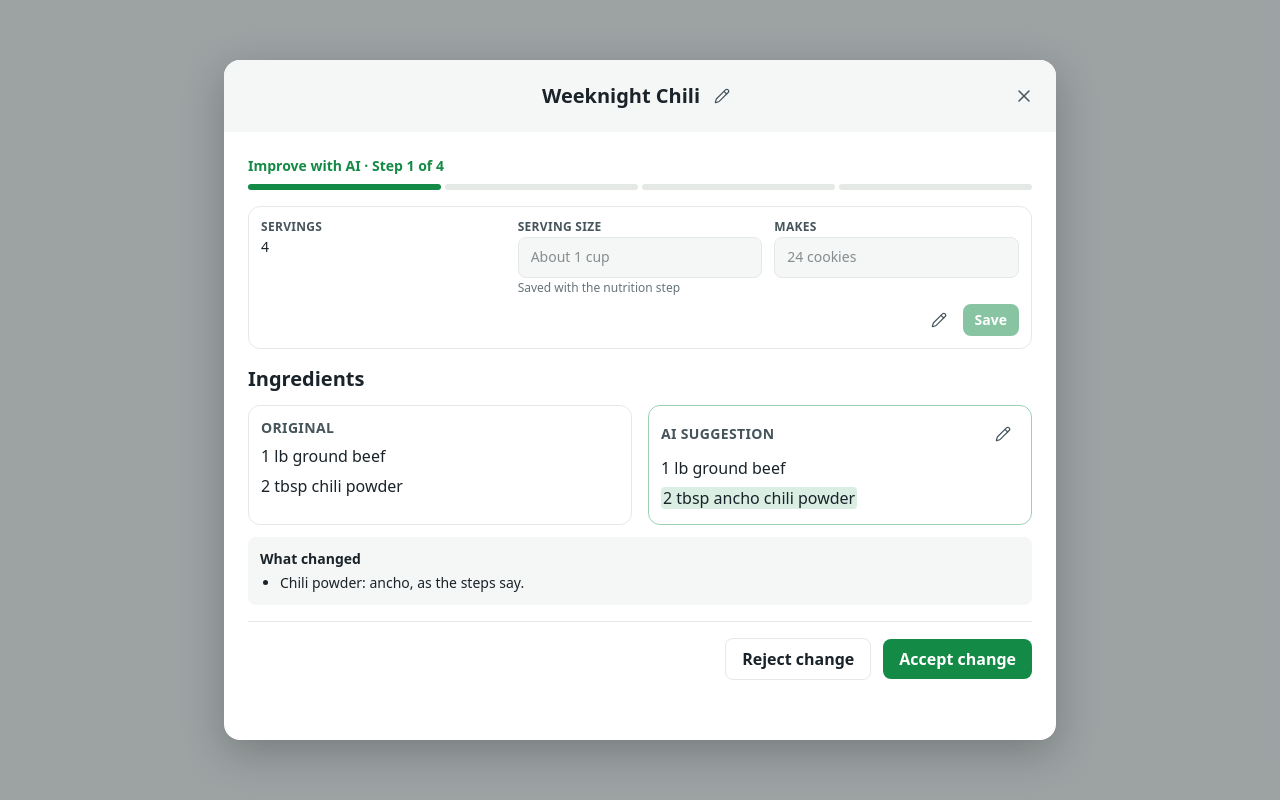
Test: Improve with AI, one part at a time › the recipe's name is in the header the whole way, with which step it's on
Expected: the text "Improve with AI · Step 1 of 4" is shown, [248, 156, 444, 176]
Click the button "Accept change" at (958, 659), box [883, 639, 1032, 679]
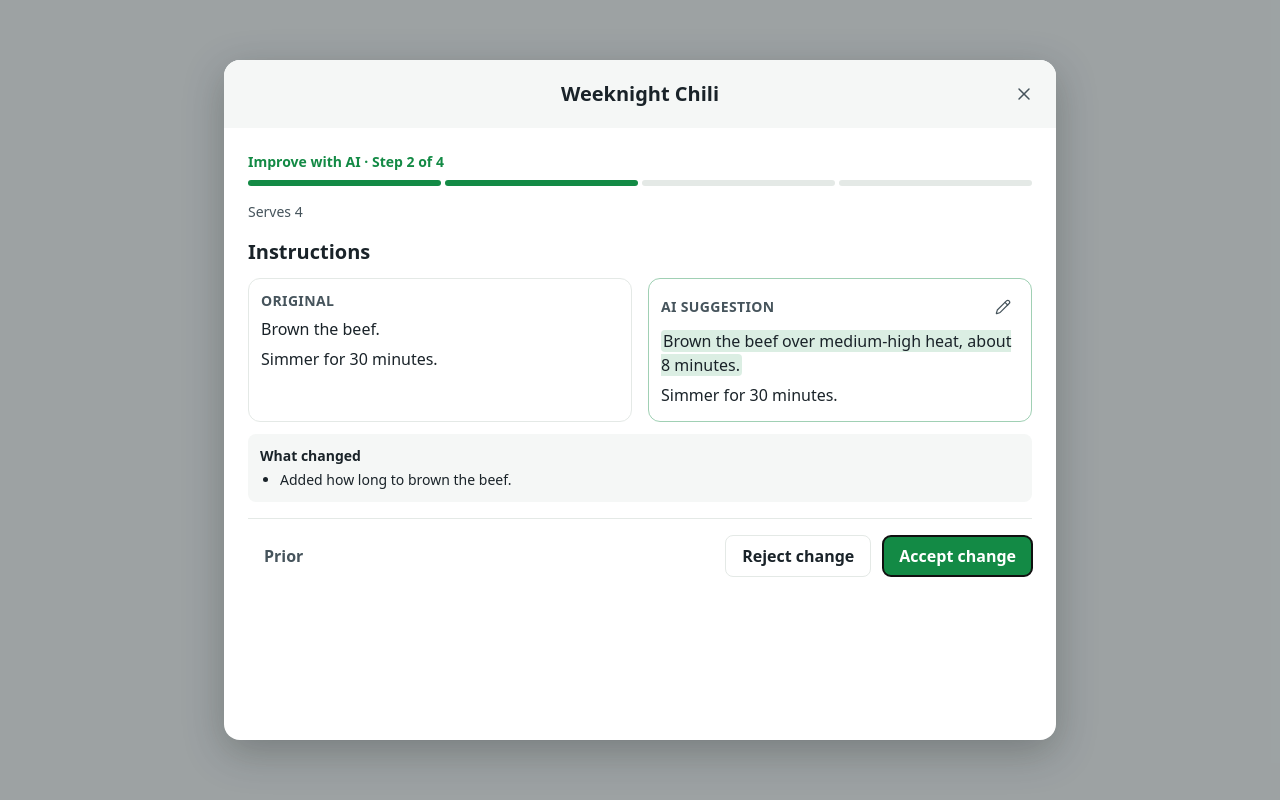
Expected: the text "Improve with AI · Step 2 of 4" is shown, [248, 152, 444, 172]
